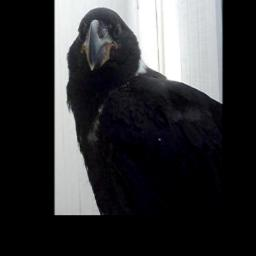Crow: (64, 5, 222, 214)
